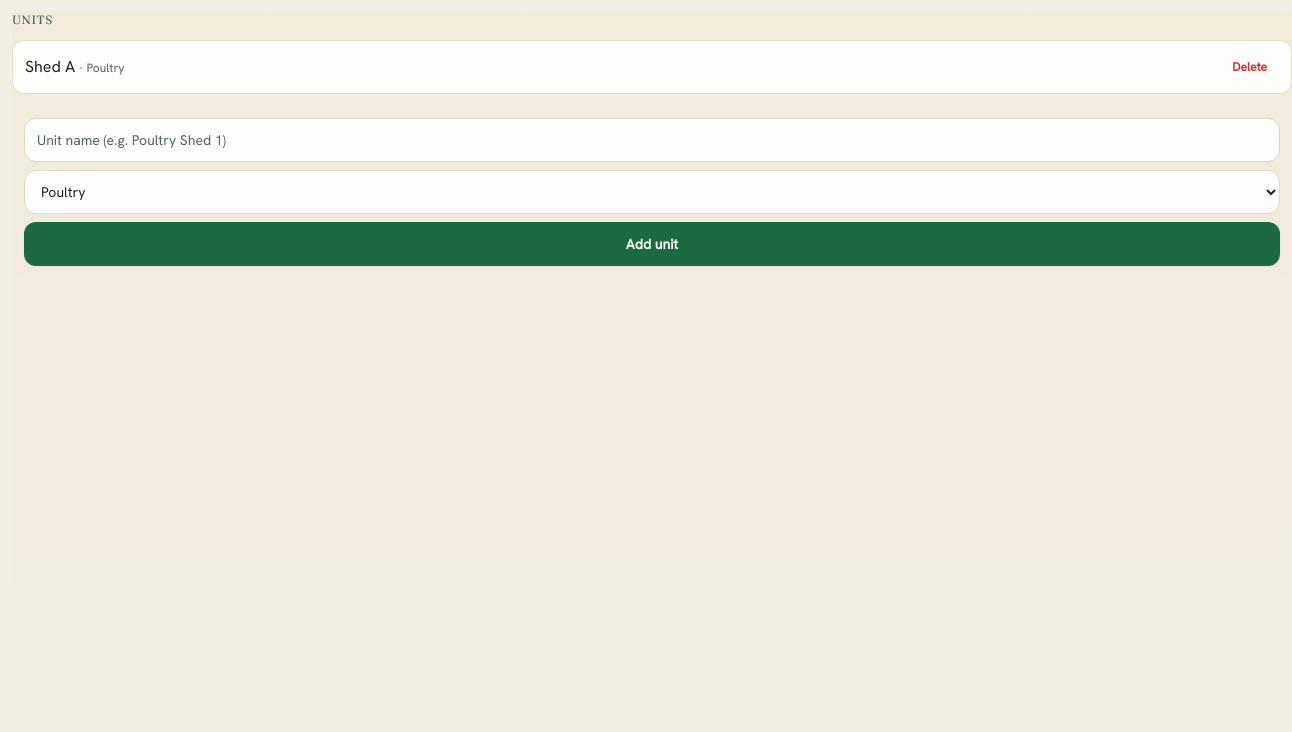
Test: UnitsPanel (TanStack Query reference conversion) › creates a unit via the API, invalidates the list and toasts success
Expected: the text "Shed A · Poultry" is shown, [25,55,125,79]
Type "Shed B" into the field with placeholder "Unit name (e.g. Poultry Shed 1)" at (652, 140), box [24,118,1280,162]
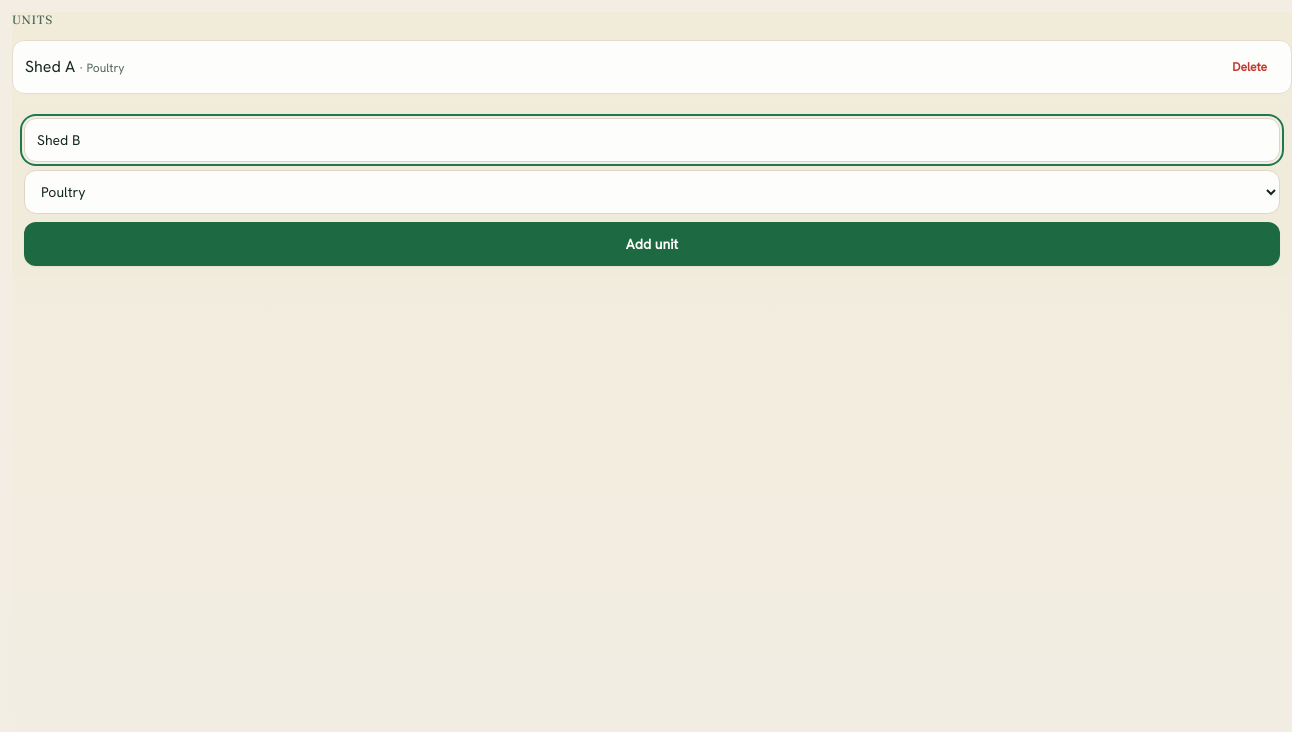
Click the button "Add unit" at (652, 244), box [24,222,1280,266]
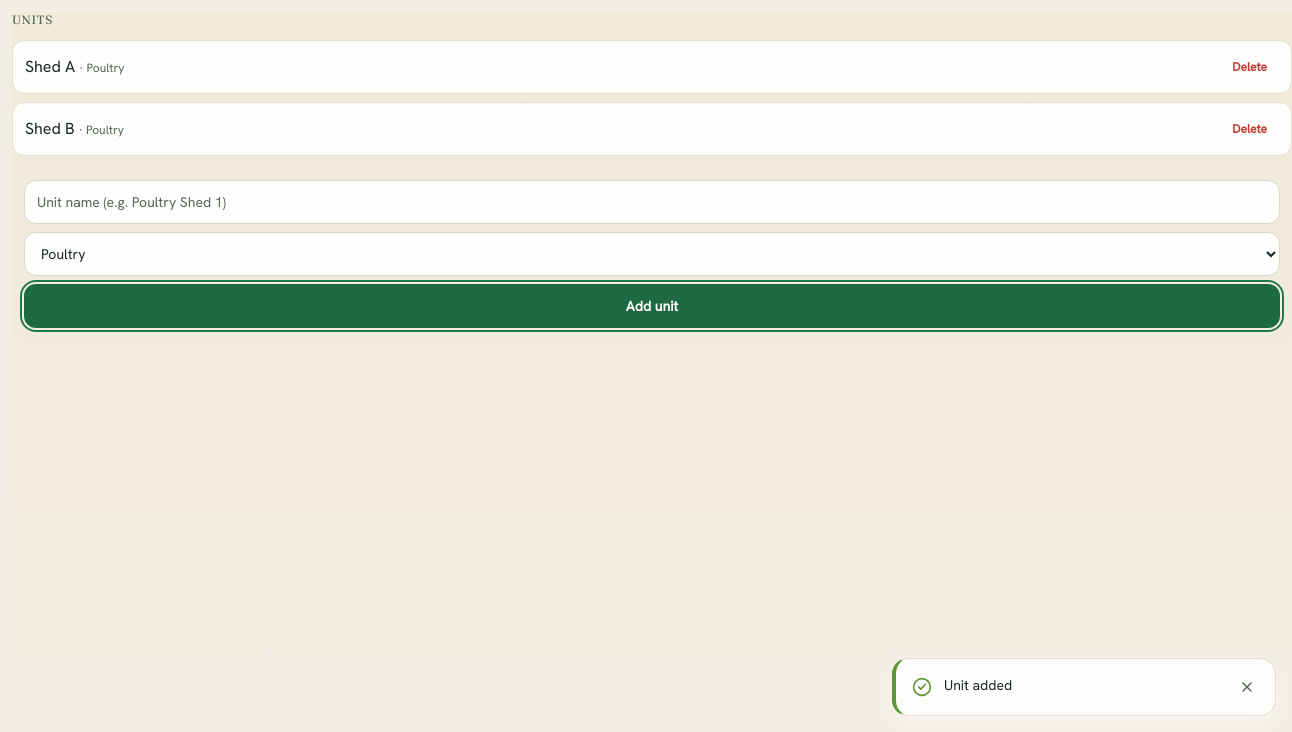
Now the text "Shed B · Poultry" is shown, box [25,117,124,141]
Now the text "Unit added" is shown, box [944,676,1012,694]
